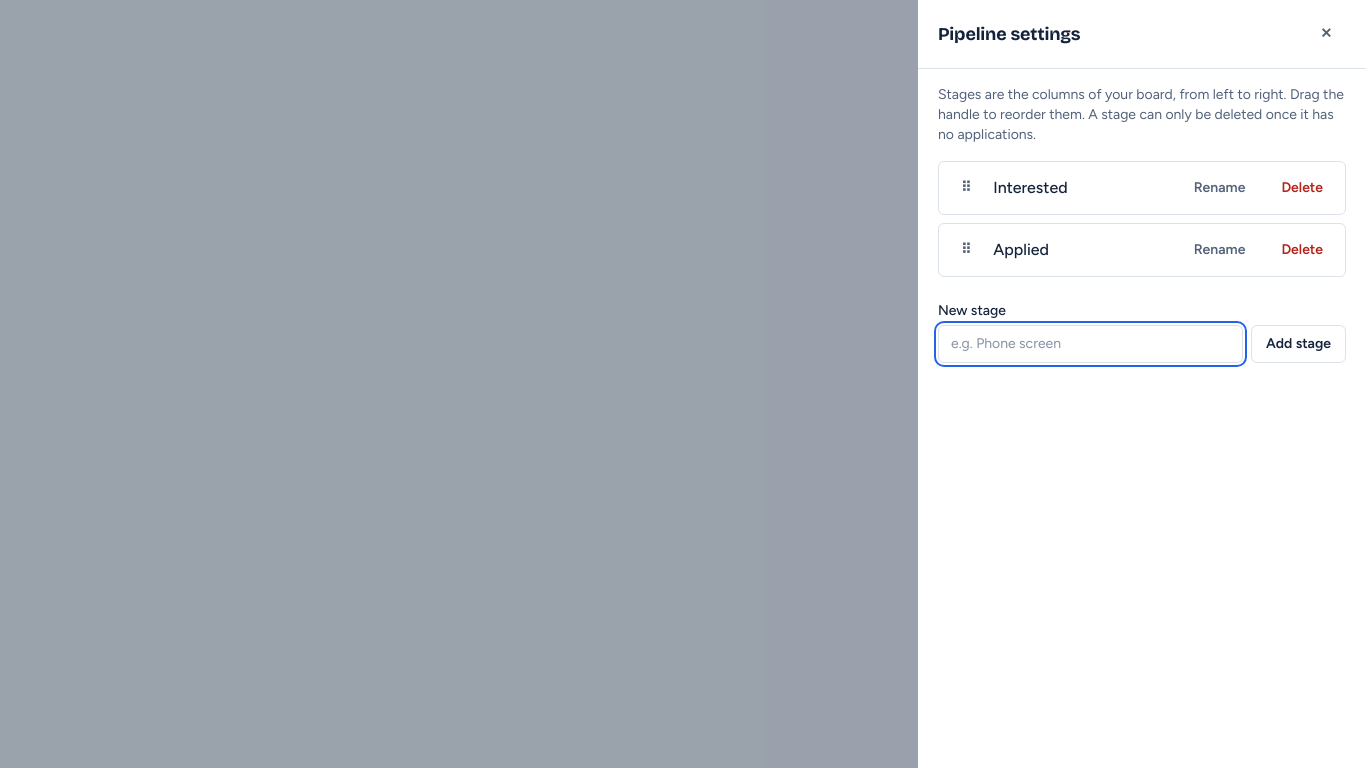
Test case: deleting an empty stage removes it
Click the button with aria-label "Delete Applied" at (1302, 250), box [1267,232,1337,268]
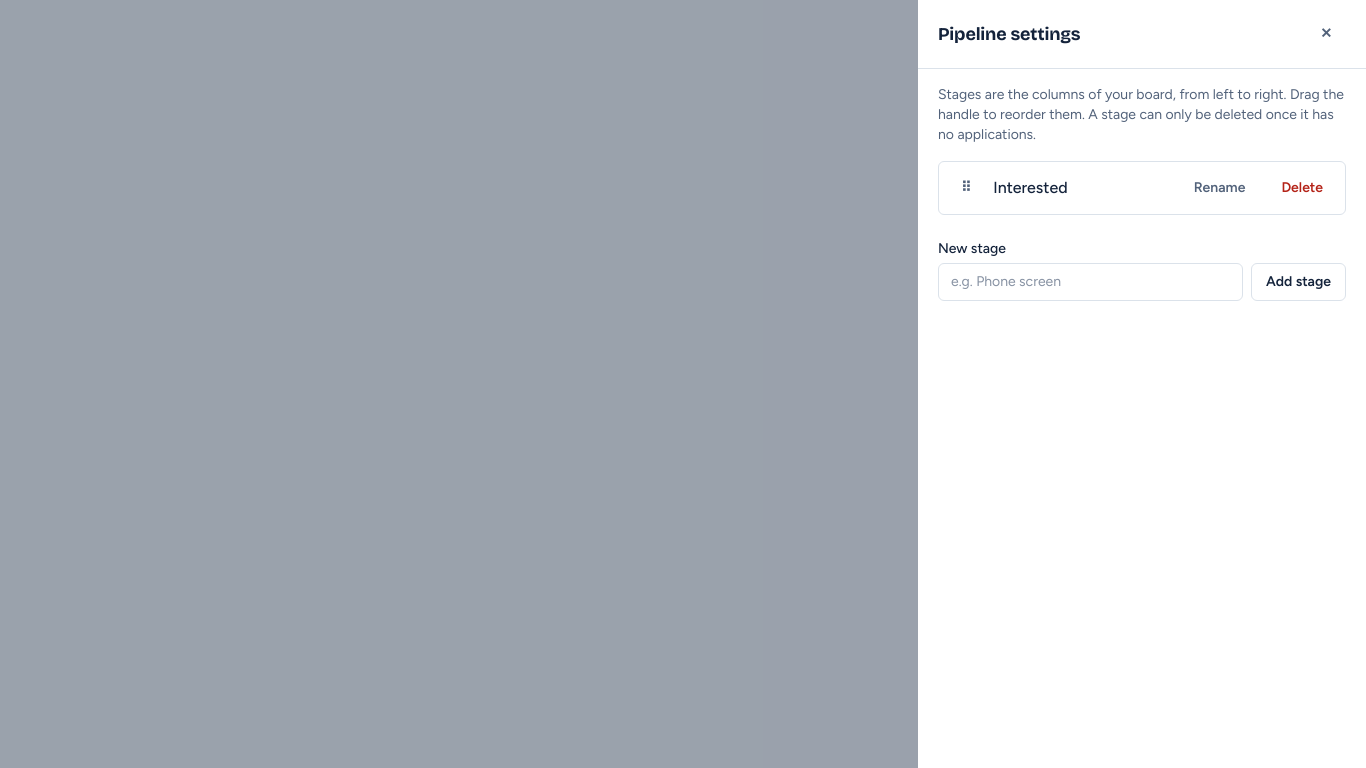
Expected: the text "Applied" is gone
